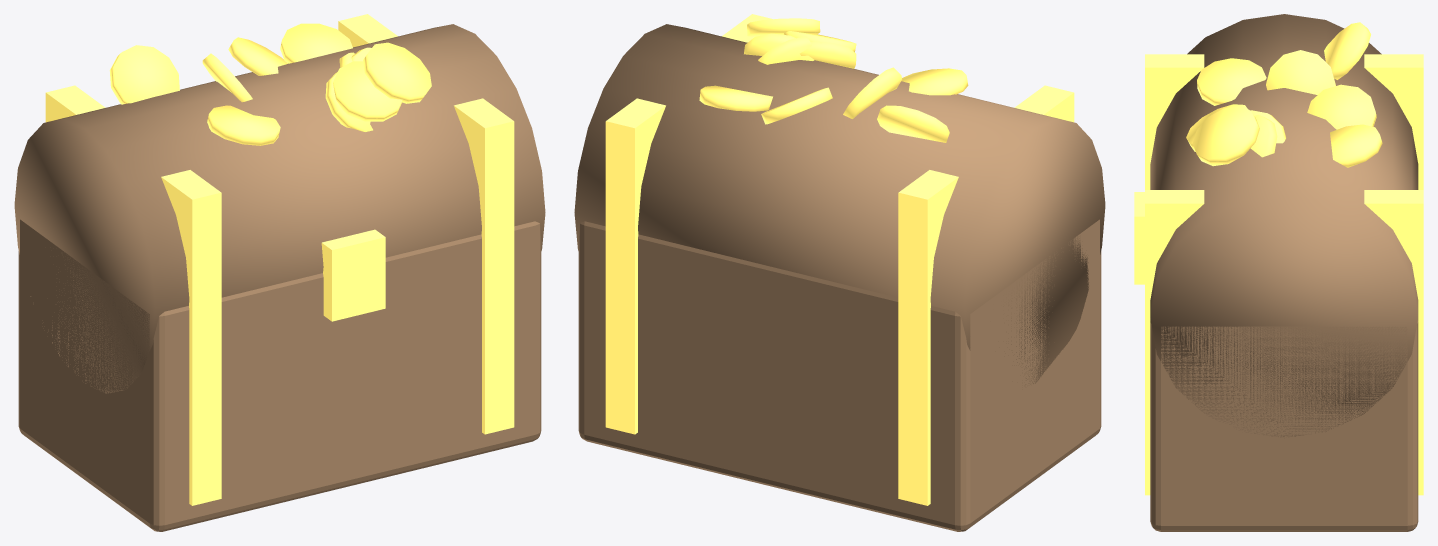
The model's file is chest.glb.
The picture shows the model from 3 angles, left to right: view 1: azimuth 30°, elevation 25°; view 2: azimuth 150°, elevation 25°; view 3: azimuth 270°, elevation 25°; orthographic projection. The views are drawn at different scales.
Visible parts, largest first — view 1: Base, Lid, Band-0.6, Band0.6, Lock, Coin6, Coin7, Coin0, Coin9, Coin2, Coin8, Coin1 (+1 smaller); view 2: Base, Lid, Band-0.6, Band0.6, Coin6, Coin9, Coin2, Coin1, Coin7, Coin5, Coin8, Coin3 (+1 smaller); view 3: Lid, Base, Band0.6, Band-0.6, Coin7, Coin1, Coin9, Coin8, Coin2, Coin6, Lock, Coin4 (+1 smaller).
Part boxes in pixels (x1,y1,x2,y2): Base: (18,219,541,531); Lid: (14,24,545,393); Band-0.6: (45,85,221,505); Band0.6: (338,14,514,434); Lock: (321,229,385,321); Coin6: (109,45,179,104); Coin7: (363,42,431,103); Coin0: (333,61,402,121); Coin9: (207,105,280,145); Coin2: (280,23,352,63); Coin8: (228,37,287,75); Coin1: (202,53,252,102); Base: (578,219,1101,531); Lid: (574,24,1105,384); Band-0.6: (898,85,1074,505); Band0.6: (605,14,772,434); Coin6: (877,105,949,142); Coin9: (901,68,968,95); Coin2: (699,85,772,111); Coin1: (843,67,902,118); Coin7: (747,18,820,37); Coin5: (800,41,856,68); Coin8: (761,87,832,124); Coin3: (758,36,811,64); Lid: (1150,14,1418,438); Base: (1150,318,1418,531); Band0.6: (1145,190,1423,495); Band-0.6: (1145,54,1423,189); Coin7: (1192,106,1259,166); Coin1: (1266,50,1335,94); Coin9: (1197,58,1266,105); Coin8: (1307,84,1376,129); Coin2: (1330,124,1382,167); Coin6: (1324,22,1370,79); Lock: (1134,192,1144,284); Coin4: (1250,114,1277,157).
Bounding box in the file's own units: 1.6 × 1.52 × 1.08.
